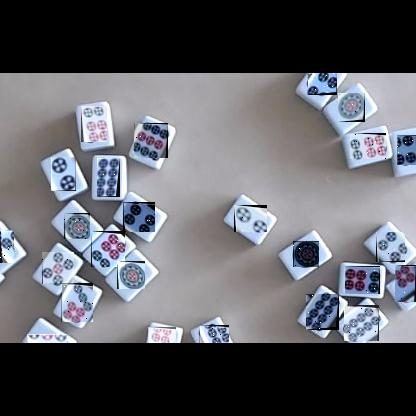1p: (117, 261, 145, 289), (338, 93, 365, 122), (293, 241, 319, 267), (64, 213, 90, 239)
2p: (234, 205, 267, 232), (51, 157, 76, 191)
3p: (27, 334, 67, 343)
4p: (123, 202, 155, 232), (376, 232, 405, 262), (307, 73, 337, 95), (397, 135, 416, 165)
5p: (42, 252, 74, 284), (0, 230, 14, 263)
6p: (91, 231, 125, 267), (345, 266, 380, 294), (350, 133, 386, 159), (81, 106, 107, 142)
7p: (61, 283, 93, 322), (395, 265, 416, 302), (148, 327, 176, 343)
8p: (344, 305, 379, 341), (306, 294, 339, 330), (97, 158, 120, 197), (199, 325, 229, 343)
9p: (134, 123, 168, 158)
